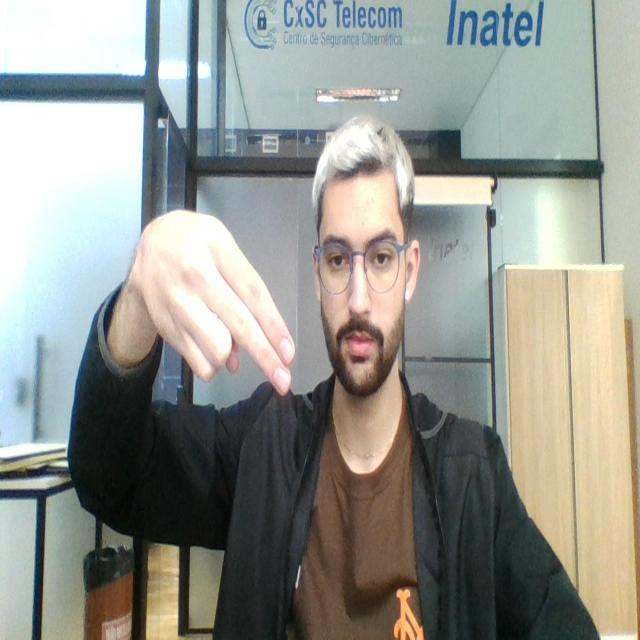N: (134, 206, 298, 400)
